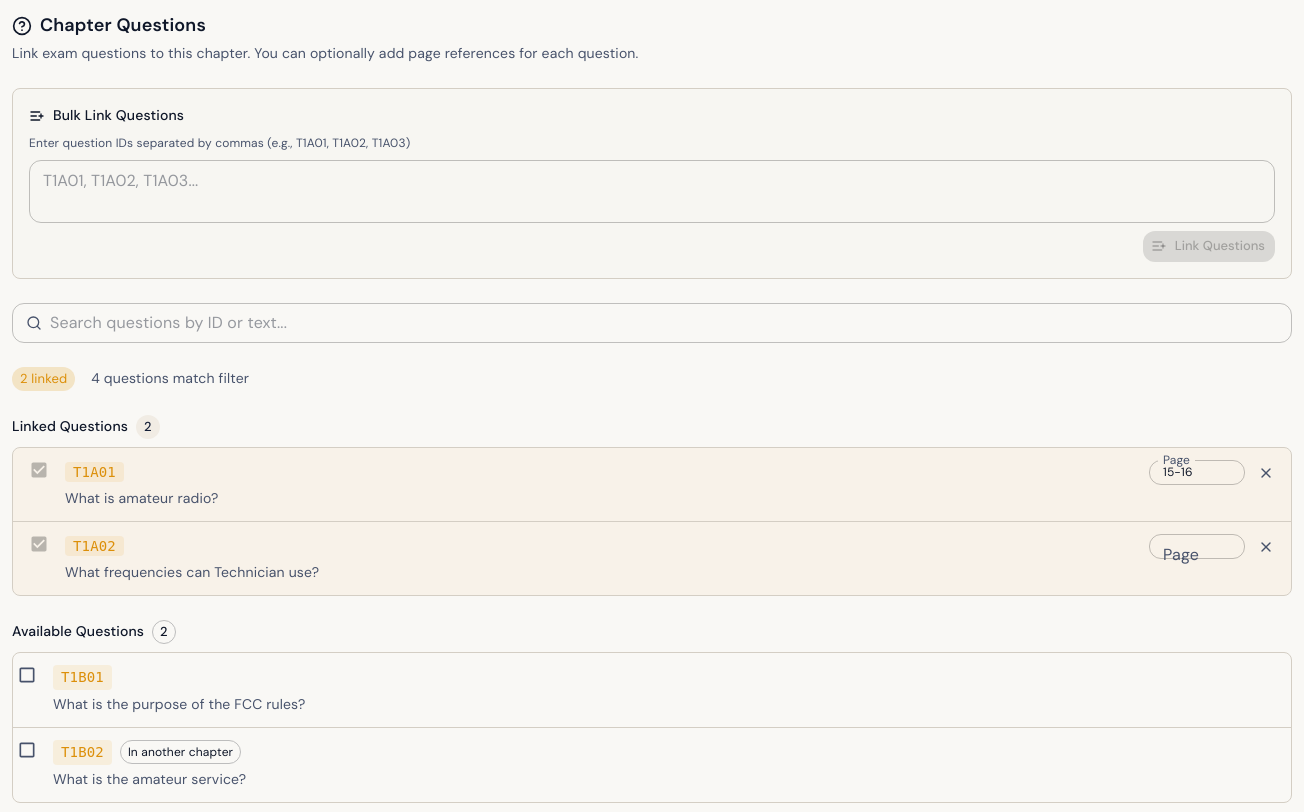
it: ChapterQuestionManager › Stats Display › should update count when search filters results
Check: the text "T1A01" is shown, box [65,462,124,482]
Type "T1A" into the search field with placeholder "Search questions by ID or text...".
click(671, 323); type("T1A")  # box [50,303,1292,343]
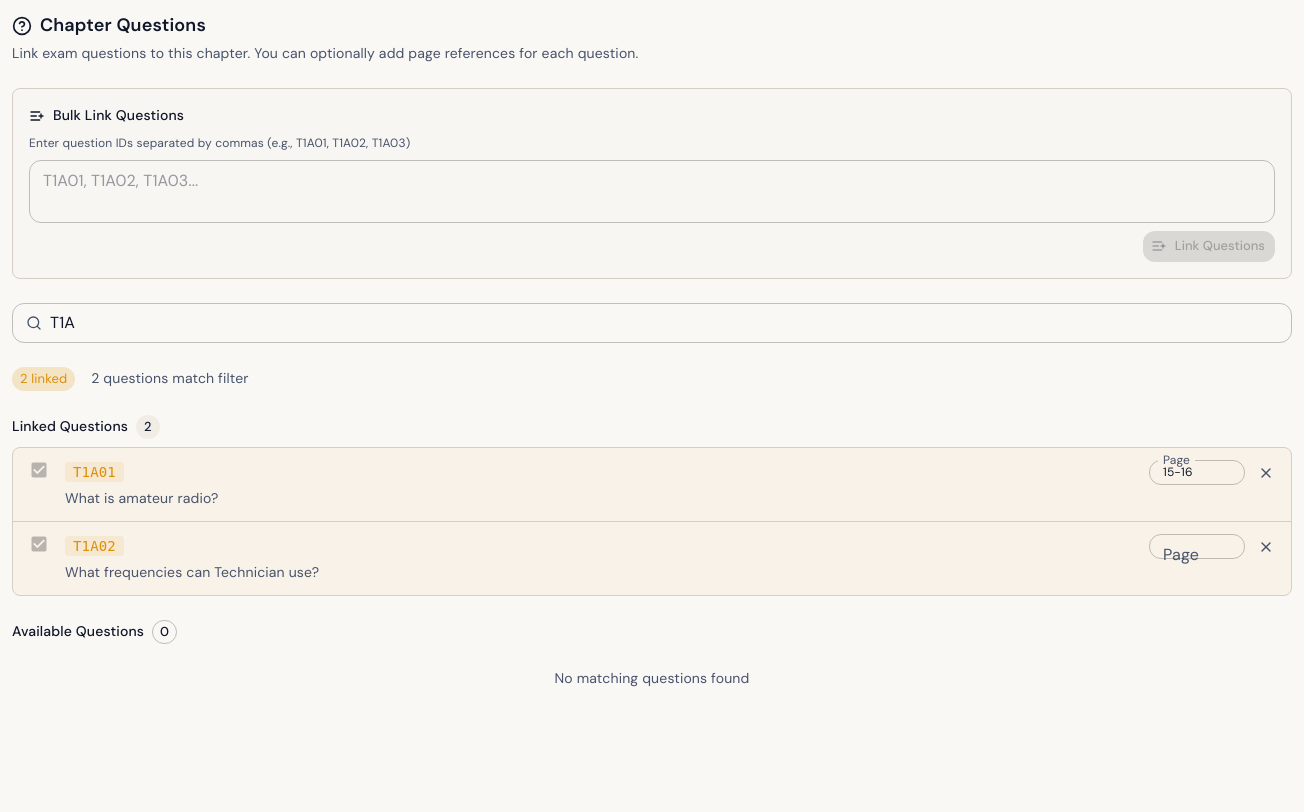
Check: the text "2 questions match filter" is shown, box [91,368,249,389]
